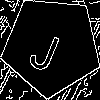J: (26, 21, 67, 74)
